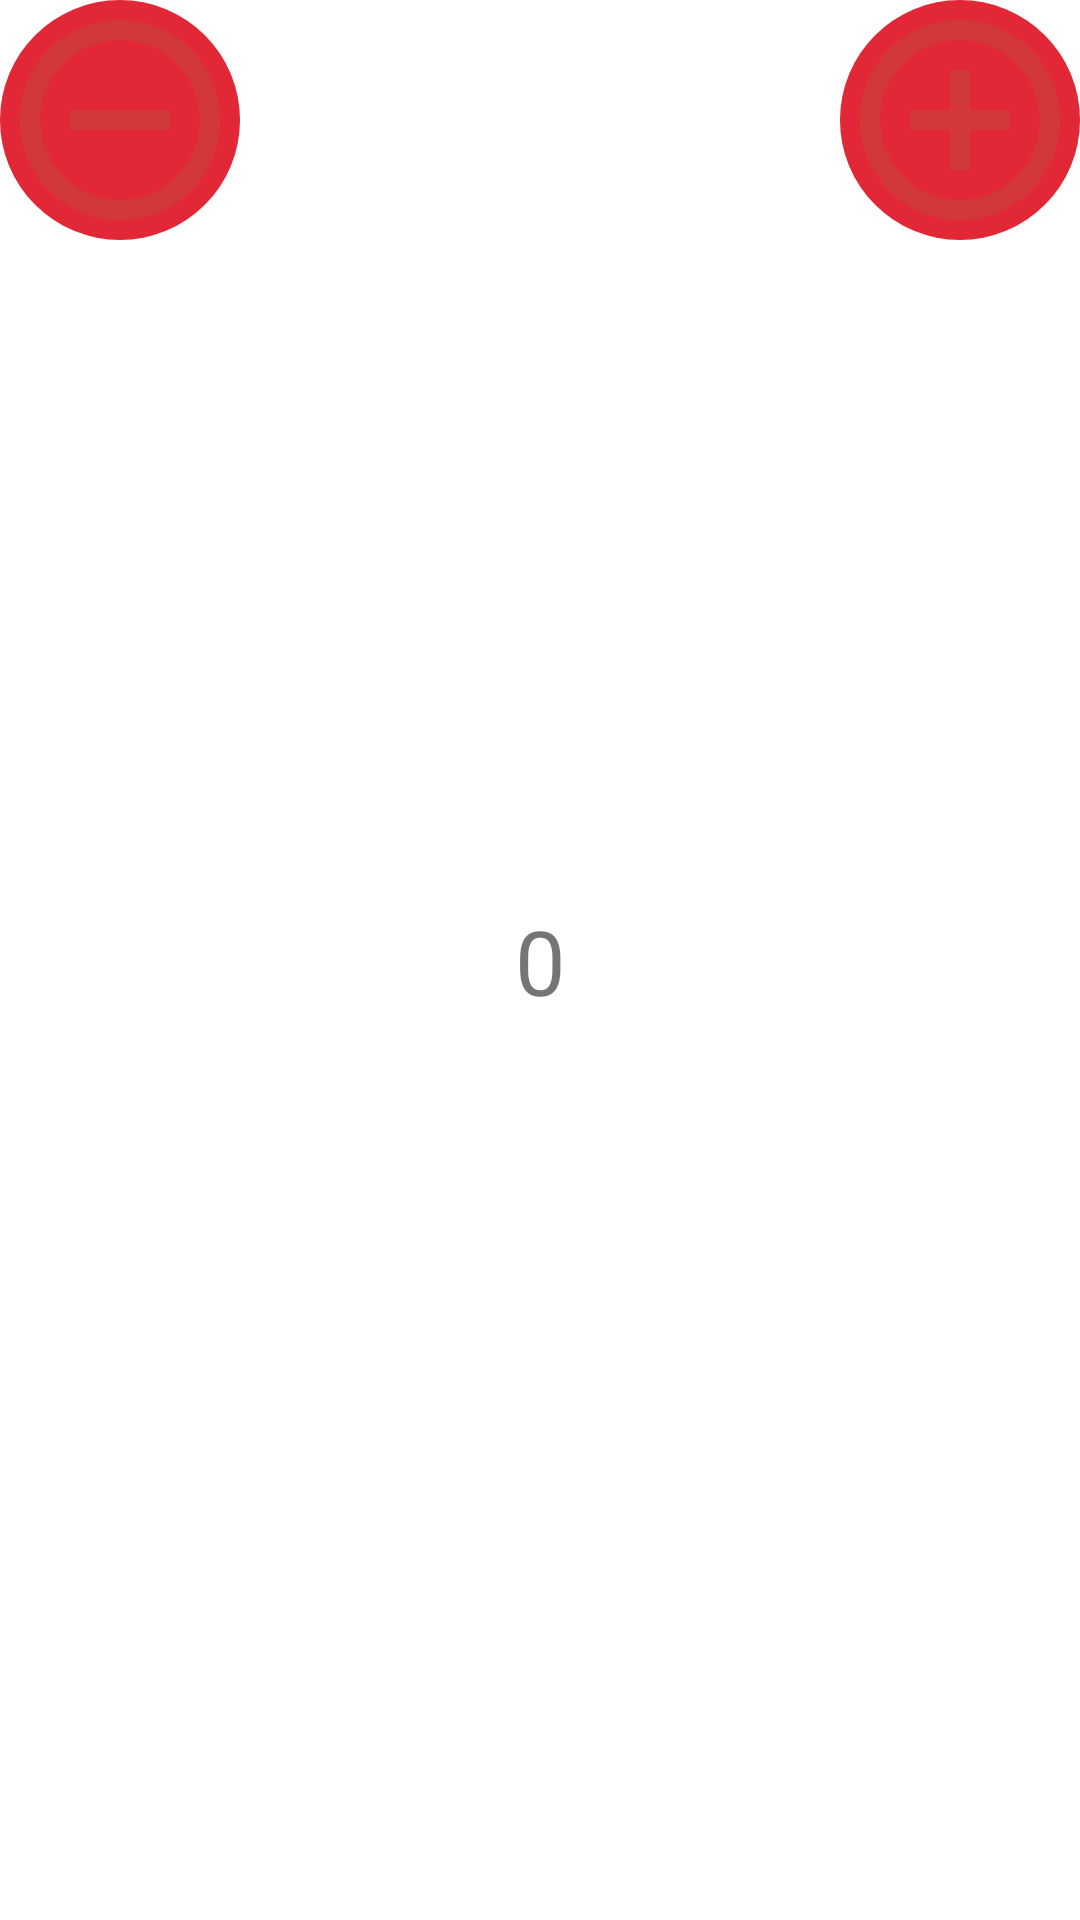

Screen size 1080 x 1920. Icon name, then its box in pixels as (x1, y1, x2, y2):
add circle: (840, 0, 1080, 240)
remove circle: (0, 0, 240, 240)
